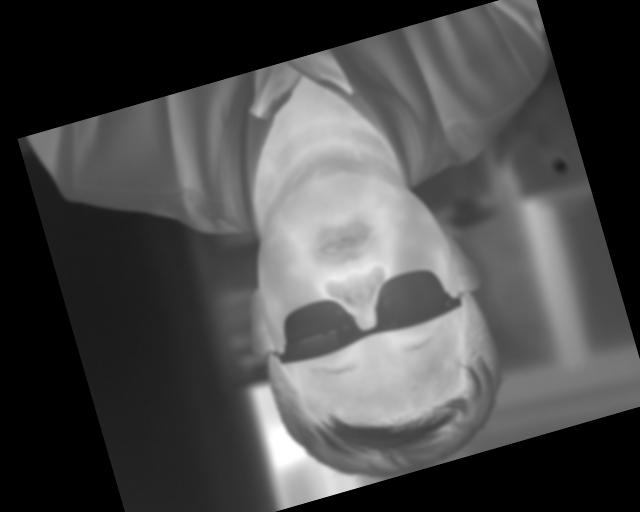face: (362, 147, 456, 263), (278, 128, 350, 218)
